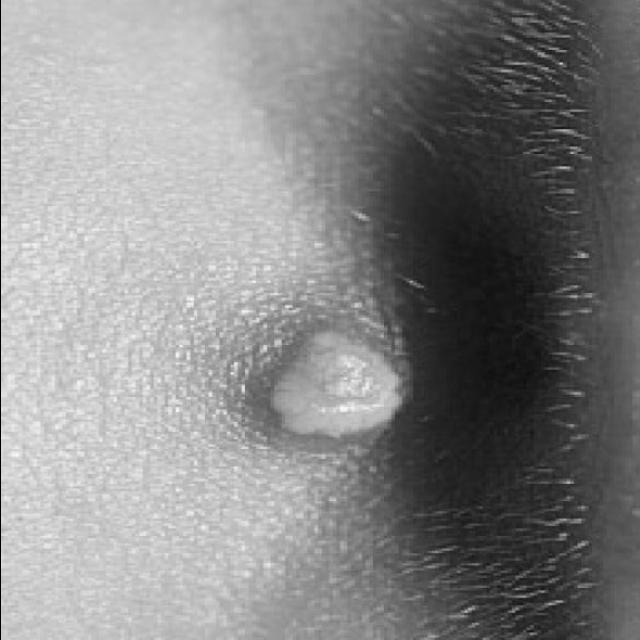pustule: (214, 275, 436, 470)
